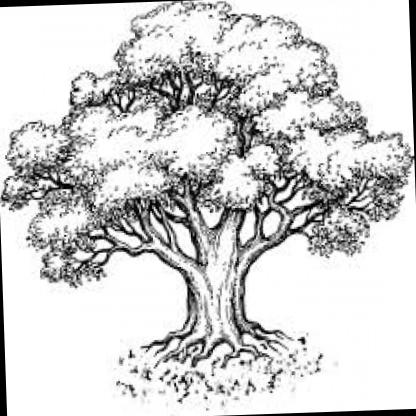branch_cut: (72, 185, 326, 276)
crown_cloud: (0, 0, 416, 288)
root_only: (138, 316, 298, 376)
trunk_bark: (174, 278, 255, 318)
